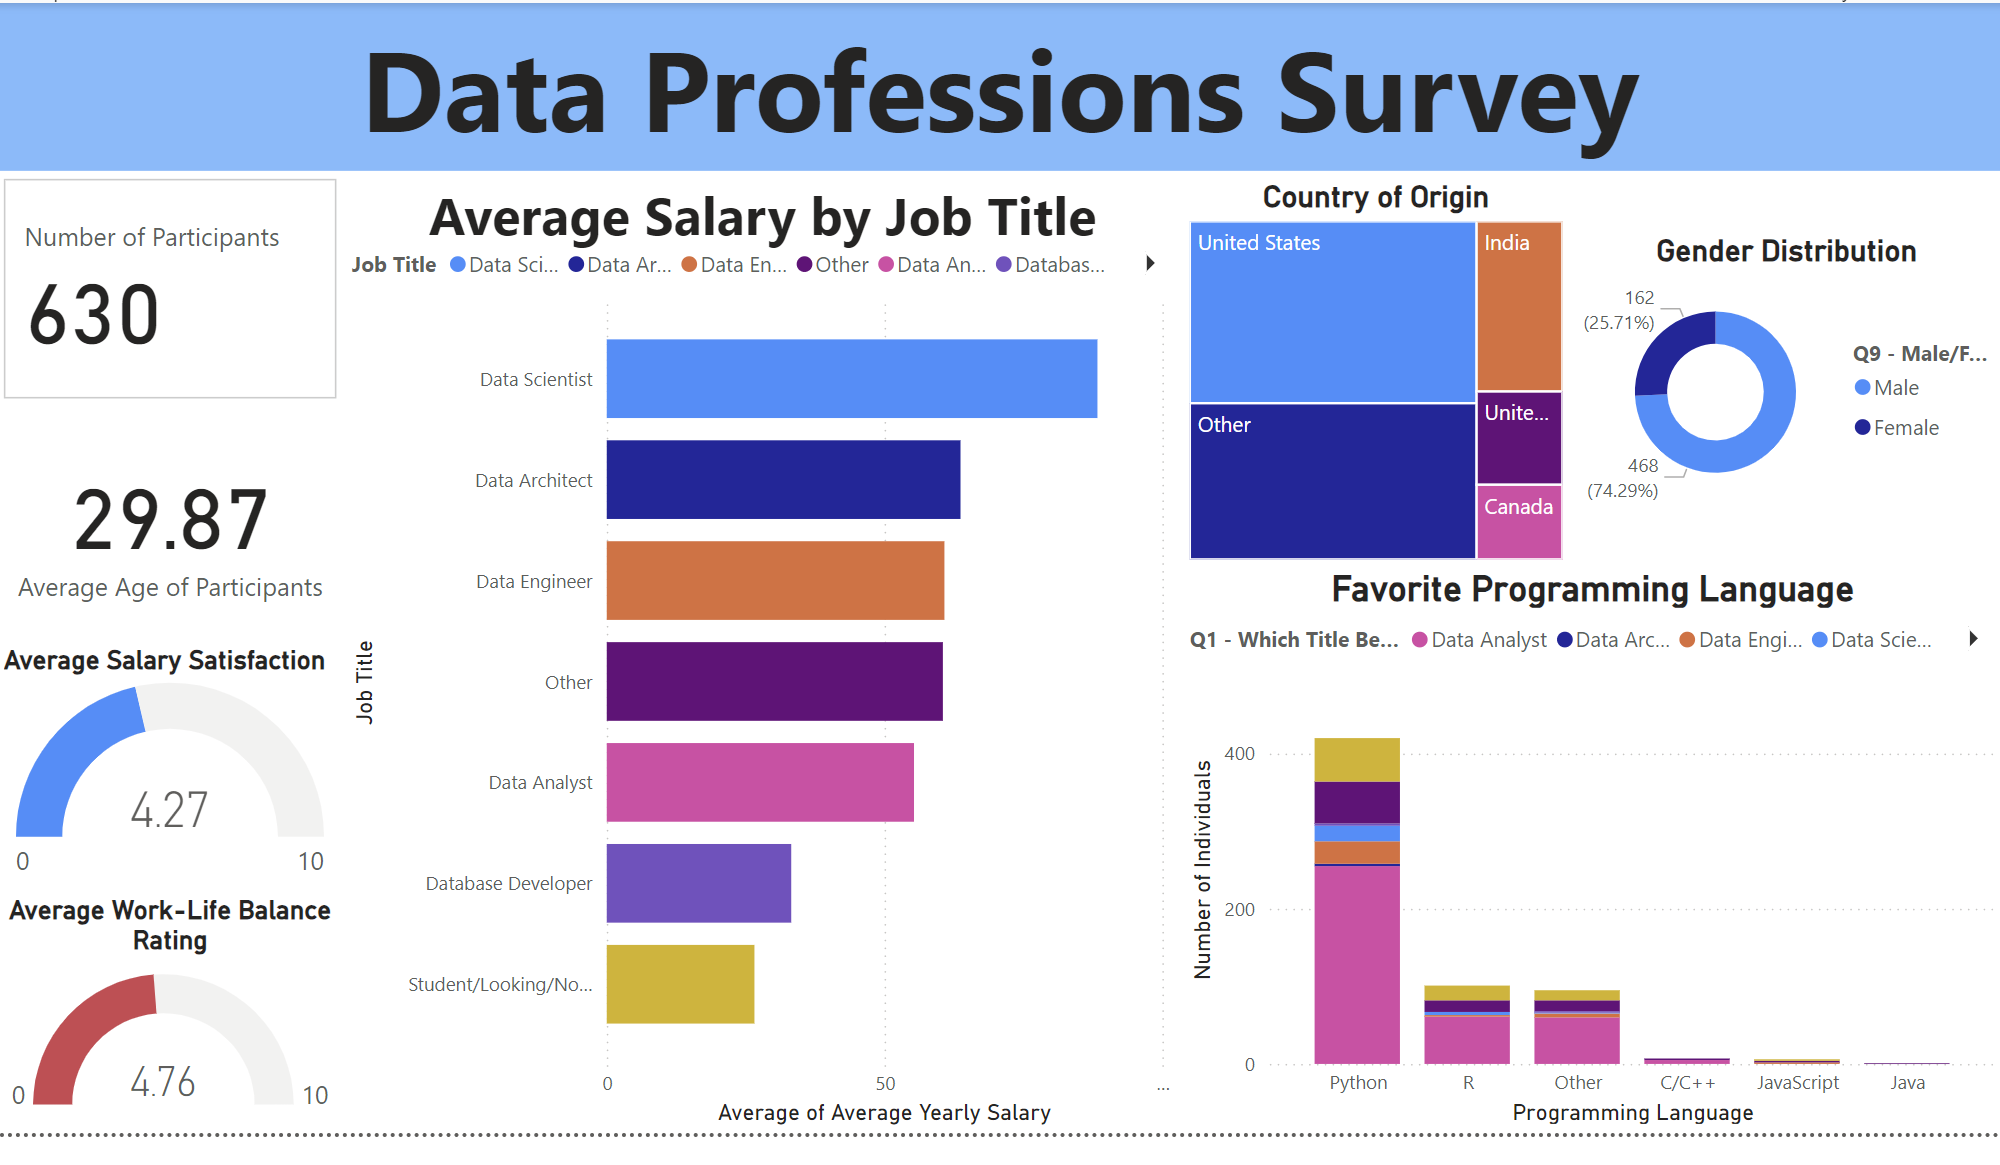

The page's visual inventory and layout, read from the dashboard file:
{"tool":"powerbi","page":{"name":"Page 1","canvas":[1280,720],"ordinal":0},"visuals":[{"type":"textbox","box":[0,0,1280,107.2],"z":0},{"type":"cardVisual","fields":{"Data":["Count(Data Professional Survey.Unique ID)"]},"box":[0,107,222.3,150.9],"z":1000},{"type":"card","fields":{"Values":["Avg(Data Professional Survey.Q10 - Current Age)"]},"box":[0,257.9,222.3,150.9],"z":2000},{"type":"barChart","title":"Average Salary by Job Title","fields":{"Category":["Data Professional Survey.Q1 - Which Title Best Fits your Current Role?.1"],"Y":["Avg(Data Professional Survey.Average Yearly Salary)"],"Series":["Data Professional Survey.Q1 - Which Title Best Fits your Current Role?.1"]},"box":[222.3,112.5,533.7,607.8],"z":3000},{"type":"gauge","title":"Average Salary Satisfaction","fields":{"Y":["Avg(Data Professional Survey.Q6 - How Happy are you in your Current Position with the following? (Salary))"],"MinValue":["Min(Data Professional Survey.Q6 - How Happy are you in your Current Position with the following? (Salary))1"],"MaxValue":["Max(Data Professional Survey.Q6 - How Happy are you in your Current Position with the following? (Salary))2"]},"box":[0,409.6,221.9,158.7],"z":4000},{"type":"gauge","title":"Average Work-Life Balance Rating","fields":{"Y":["Avg(Data Professional Survey.Q6 - How Happy are you in your Current Position with the following? (Upward Mobility))"],"MinValue":["Min(Data Professional Survey.Q6 - How Happy are you in your Current Position with the following? (Upward Mobility))"],"MaxValue":["Max(Data Professional Survey.Q6 - How Happy are you in your Current Position with the following? (Upward Mobility))"]},"box":[0,569,222,151],"z":5000},{"type":"treemap","title":"Country of Origin","fields":{"Group":["Data Professional Survey.Q11 - Which Country do you live in?.1"],"Values":["CountNonNull(Data Professional Survey.Q11 - Which Country do you live in?.1)"]},"box":[756.1,112.6,247.5,247.5],"z":6000},{"type":"columnChart","title":"Favorite Programming Language","fields":{"Category":["Data Professional Survey.Q5 - Favorite Programming Language.1"],"Y":["Count(Data Professional Survey.Unique ID)"],"Series":["Data Professional Survey.Q1 - Which Title Best Fits your Current Role?.1"]},"box":[756.1,360.1,523.9,360.1],"z":7000},{"type":"donutChart","title":"Gender Distribution","fields":{"Y":["CountNonNull(Data Professional Survey.Q9 - Male/Female?)"],"Category":["Data Professional Survey.Q9 - Male/Female?"]},"box":[1003.5,146.8,276.5,180.9],"z":8000}]}

Visuals, with their boxes on the page's 1280x720 design canvas (x1, y1, x2, y2). These are canvas units, not pixel positions in the 2000x1165 screenshot, which may show the page scaled, cropped or inside an application window:
textbox: rect(0, 0, 1280, 107)
cardVisual - Count(Data Professional Survey.Unique ID): rect(0, 107, 222, 258)
card - Avg(Data Professional Survey.Q10 - Current Age): rect(0, 258, 222, 409)
"Average Salary by Job Title" barChart: rect(222, 112, 756, 720)
"Average Salary Satisfaction" gauge: rect(0, 410, 222, 568)
"Average Work-Life Balance Rating" gauge: rect(0, 569, 222, 720)
"Country of Origin" treemap: rect(756, 113, 1004, 360)
"Favorite Programming Language" columnChart: rect(756, 360, 1280, 720)
"Gender Distribution" donutChart: rect(1004, 147, 1280, 328)
